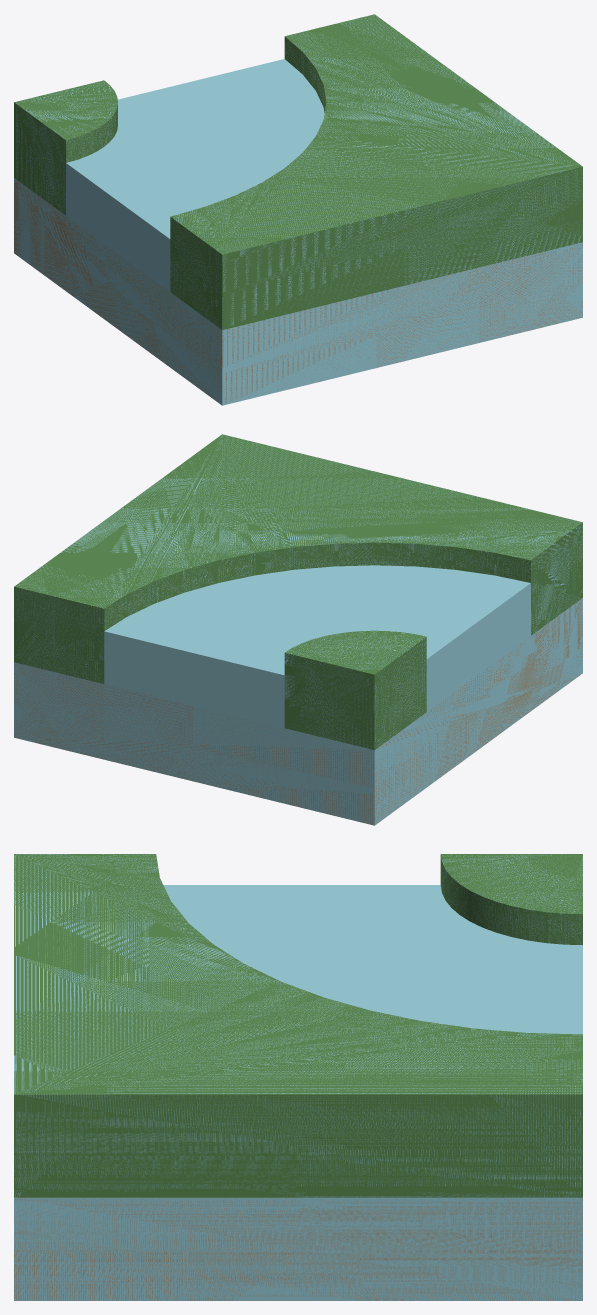
The model's file is tile_080.obj.
3 views of the same model, one above another, from view 1: azimuth 30°, elevation 25°; view 2: azimuth 150°, elevation 25°; view 3: azimuth 270°, elevation 25° (orthographic). The views are drawn at different scales.
Visible parts, largest first — view 1: tile_080; view 2: tile_080; view 3: tile_080.
Boxes of the visible parts, bbox=[...] form: tile_080: bbox=[14, 14, 582, 405]; tile_080: bbox=[14, 434, 582, 825]; tile_080: bbox=[14, 854, 582, 1300].
Size of the model in its own units: 1 by 0.4 by 1.
